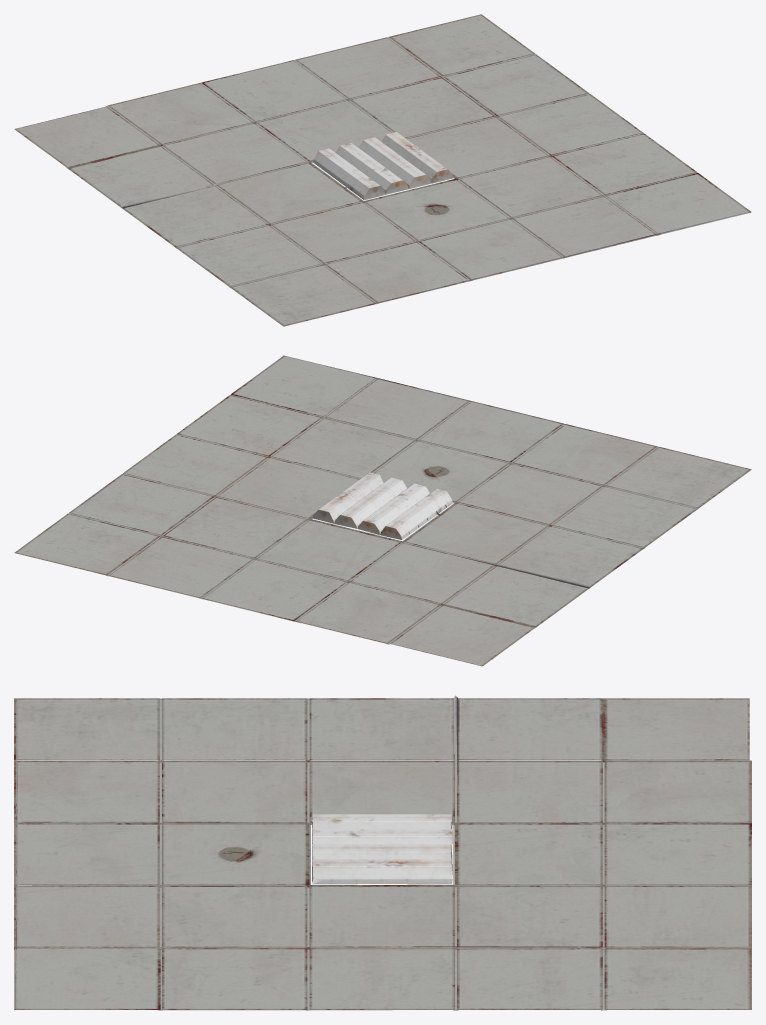
Rendered from SM_Ceiling_Grid03.fbx.
The picture shows the model from 3 angles, top to bottom: view 1: azimuth 30°, elevation 25°; view 2: azimuth 150°, elevation 25°; view 3: azimuth 270°, elevation 25°; orthographic projection. The views are drawn at different scales.
Visible parts, largest first — view 1: SM_Ceiling_Grid03_LOD0; view 2: SM_Ceiling_Grid03_LOD0; view 3: SM_Ceiling_Grid03_LOD0.
Boxes of the visible parts, <box> form: SM_Ceiling_Grid03_LOD0: <box>14,14,751,326</box>; SM_Ceiling_Grid03_LOD0: <box>14,355,751,666</box>; SM_Ceiling_Grid03_LOD0: <box>14,695,751,1010</box>.
Size of the model in its own units: 301 by 300 by 11.96.
